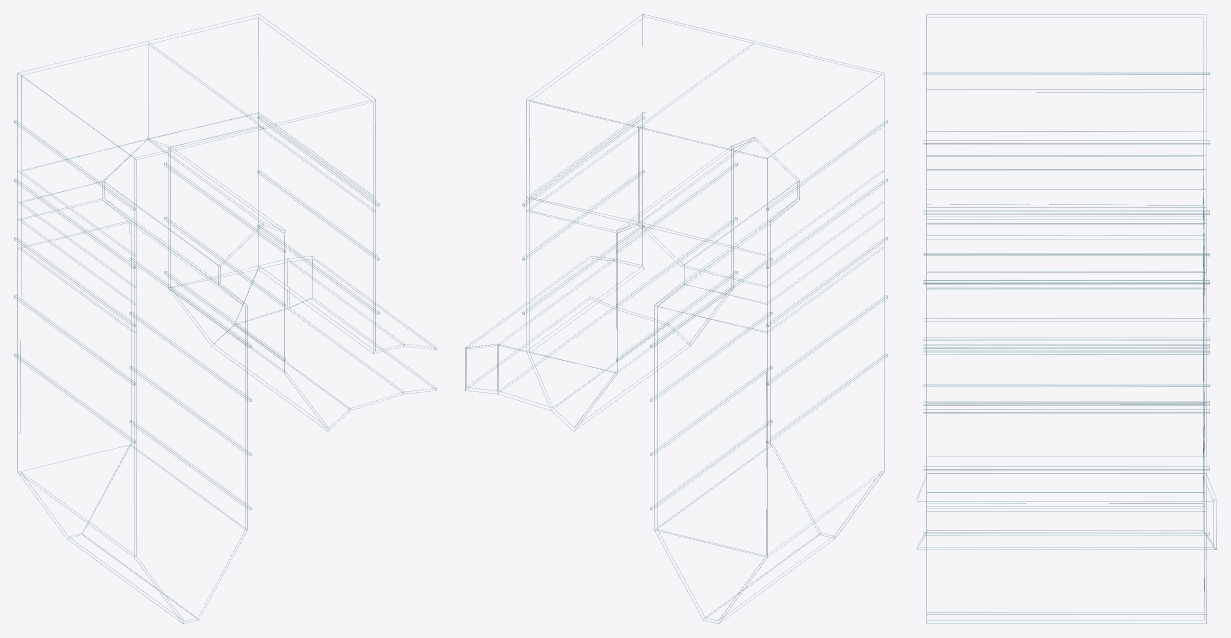
Rendered from xiankuang.fbx.
3 views of the same model, side by side, from view 1: azimuth 30°, elevation 25°; view 2: azimuth 150°, elevation 25°; view 3: azimuth 270°, elevation 25° (orthographic). The views are drawn at different scales.
Parts seen in each view (by area): view 1: 扫描_2; view 2: 扫描_2; view 3: 扫描_2.
Boxes of the visible parts, box(x1,y1,x2,y2) form: 扫描_2: box(14, 14, 436, 623); 扫描_2: box(465, 14, 887, 623); 扫描_2: box(916, 14, 1216, 623).
Bounding box in the file's own units: 290 × 441 × 210.
